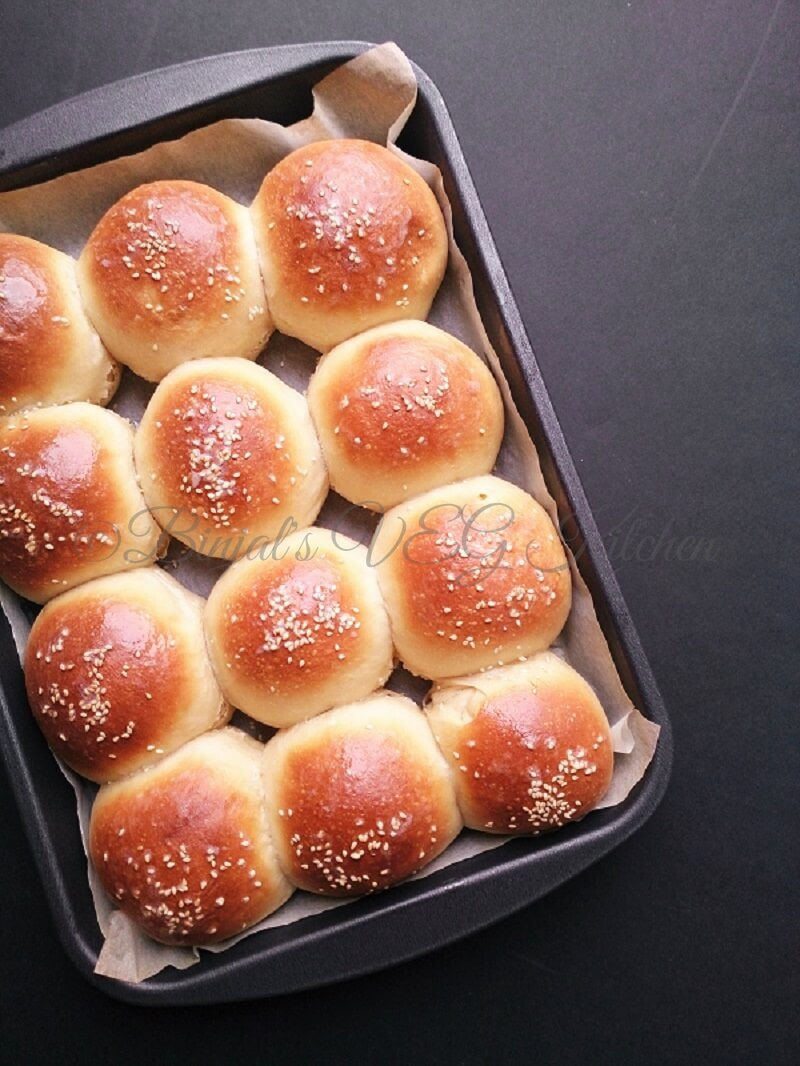hamburger_buns: (255, 130, 450, 380), (291, 299, 524, 499), (403, 631, 606, 840), (382, 473, 561, 685)
